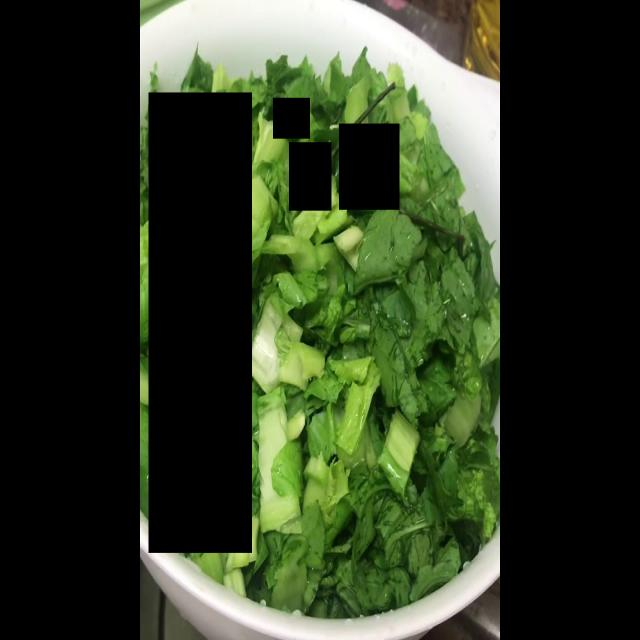Chili_Pepper: (339, 123, 400, 210), (289, 142, 332, 211), (273, 98, 310, 139)
Rayo_ko_Saag: (149, 93, 252, 553)
